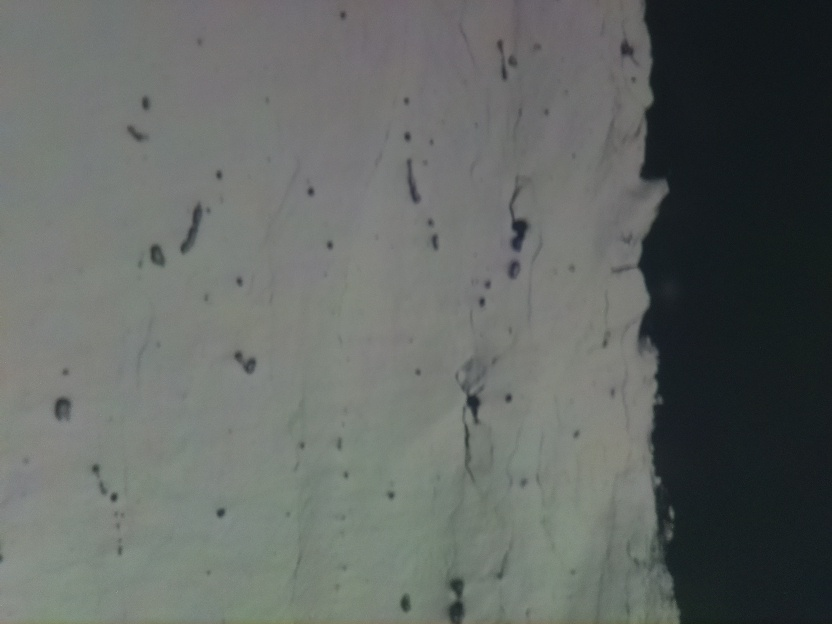crack: (635, 0, 832, 623)
